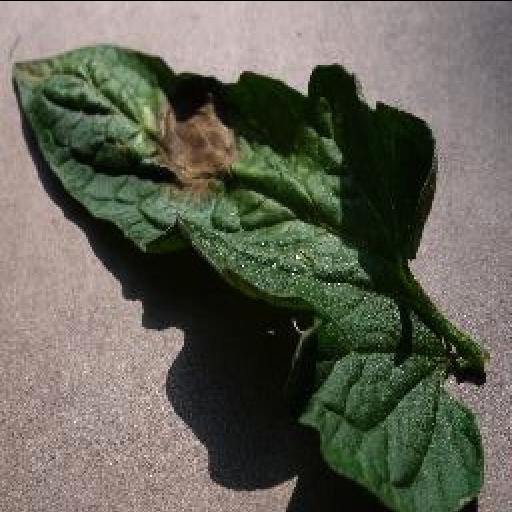disease_tomato: (12, 42, 484, 512)
